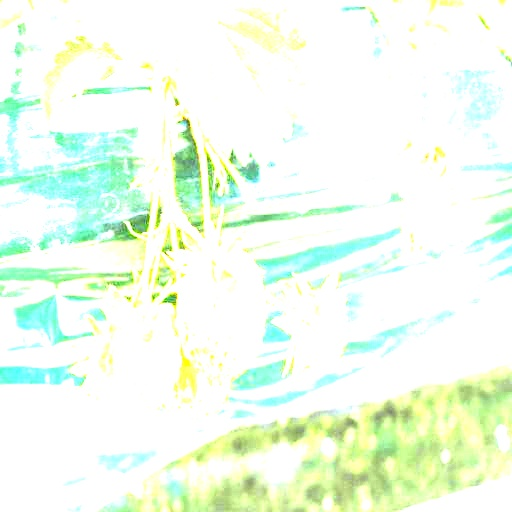Gray Mold: (390, 123, 463, 259)
